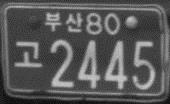0: (104, 12, 120, 36)
2: (50, 38, 74, 88)
4: (103, 41, 128, 89), (77, 39, 101, 88)
5: (132, 40, 156, 89)
8: (86, 12, 102, 34)
고: (14, 41, 42, 67)
부산_O: (44, 11, 83, 33)
